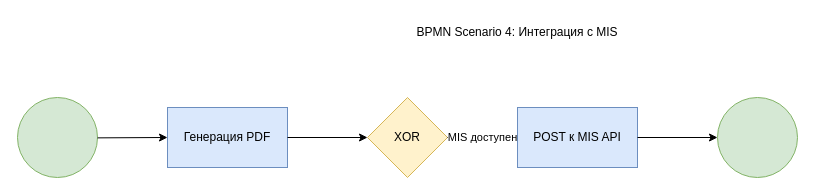
Some shapes in this 815 by 195 pixel diagram are drawn without their labels. The shapes that lost their labels are listed below. From the top down, each one's centre as x and y in pixels, then its label:
At point (57, 137): "Start".
At point (757, 137): "End".
